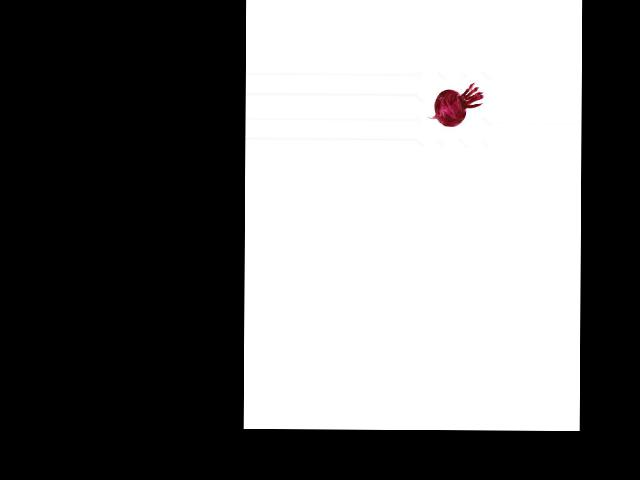beet: (427, 82, 483, 127)
